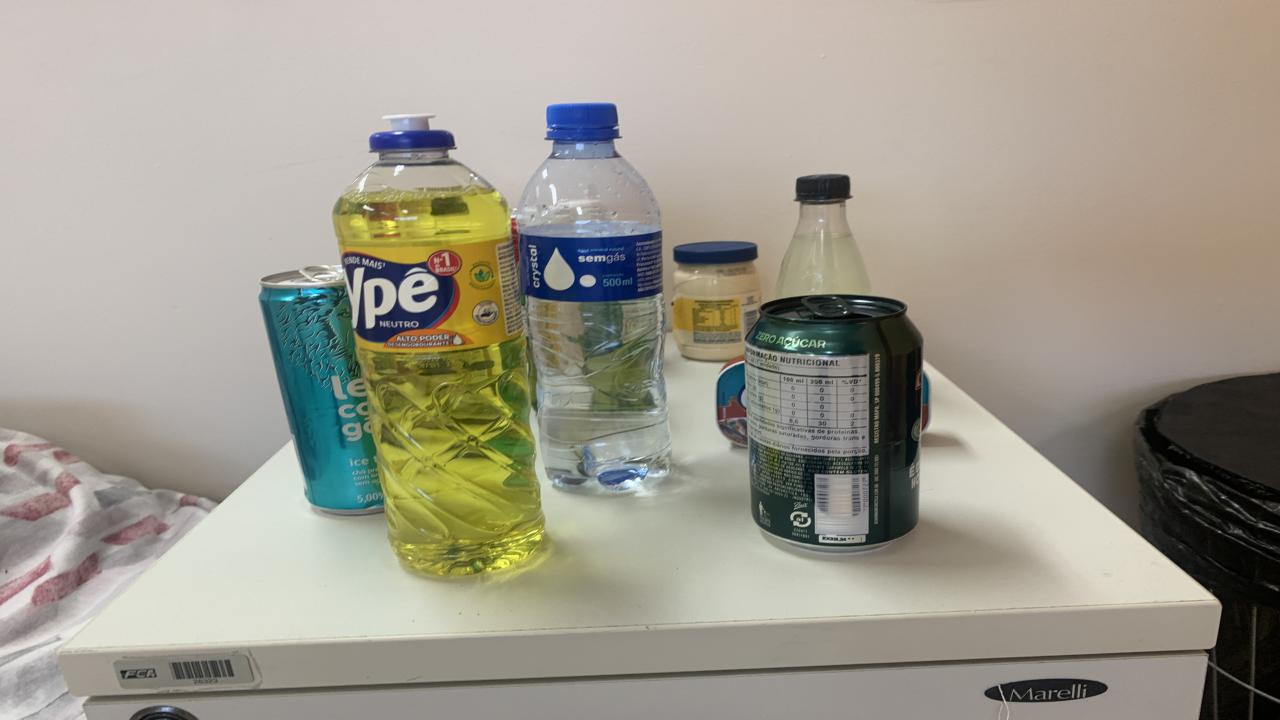Detergent-Cleanup_Items: (332, 114, 542, 576)
Guarana_Can-Drinks: (745, 294, 922, 549)
Mayonnaise-Pantry_Items: (672, 242, 760, 360)
Soda-Drinks: (775, 174, 870, 298)
Tea-Drinks: (260, 266, 382, 514)
Tuna_Can-Pantry_Items: (715, 356, 748, 446), (920, 373, 930, 433)
Water_Bottle-Drinks: (515, 103, 670, 491)
